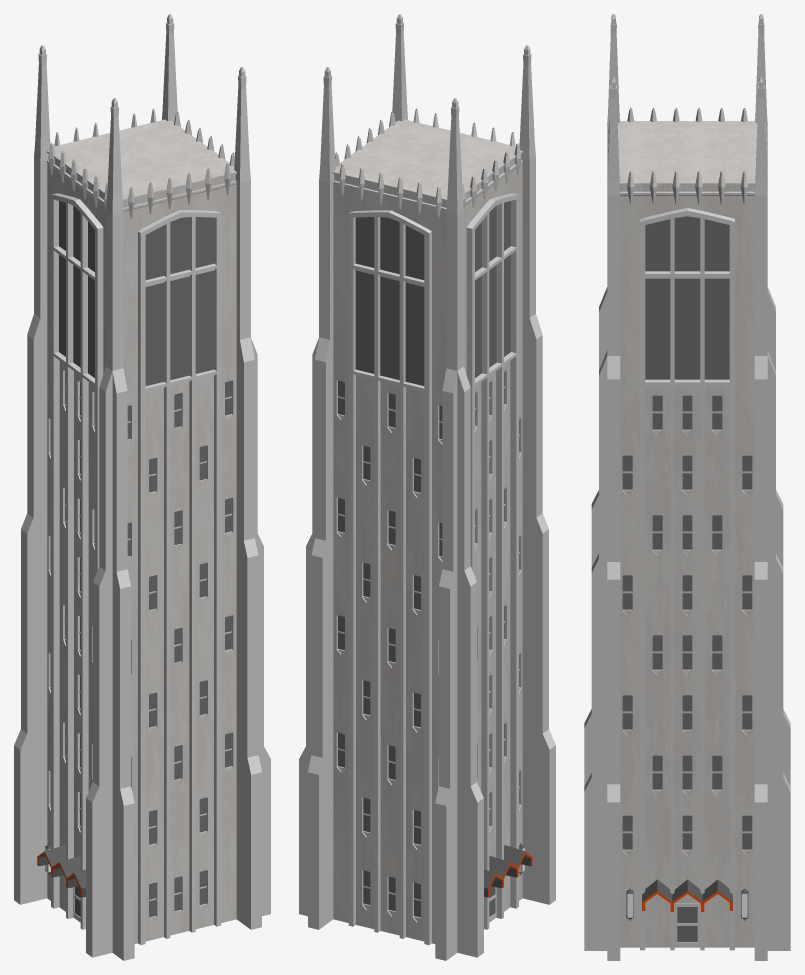
Rendered from Burns tower.glb.
The picture shows the model from 3 angles, left to right: view 1: azimuth 30°, elevation 25°; view 2: azimuth 150°, elevation 25°; view 3: azimuth 270°, elevation 25°; orthographic projection. The views are drawn at different scales.
Parts seen in each view (by area): view 1: 主体, 根柱, 窗框2, 窗框, 顶部菱形, 顶部菱形2, 雨棚; view 2: 主体, 根柱, 窗框2, 窗框, 顶部菱形, 顶部菱形2, 雨棚; view 3: 主体, 根柱, 窗框, 顶部菱形, 雨棚, 门, 灯.
Part boxes in pixels (x1,y1,x2,y2): 主体: (47,119,236,943); 根柱: (14,14,270,960); 窗框2: (138,210,221,944); 窗框: (51,193,103,929); 顶部菱形: (48,111,234,210); 顶部菱形2: (54,108,230,218); 雨棚: (37,845,85,897); 主体: (333,119,522,943); 根柱: (299,14,555,960); 窗框2: (348,210,431,944); 窗框: (466,193,518,929); 顶部菱形: (335,111,521,209); 顶部菱形2: (339,108,515,218); 雨棚: (484,845,532,897); 主体: (617,121,757,947); 根柱: (584,14,790,960); 窗框: (640,208,734,950); 顶部菱形: (627,107,748,203); 雨棚: (642,879,732,911); 门: (675,903,699,946); 灯: (626,888,748,920).
Bounding box in the file's own units: 1.42 × 6.49 × 1.4.
6 materials, 1 textured.
